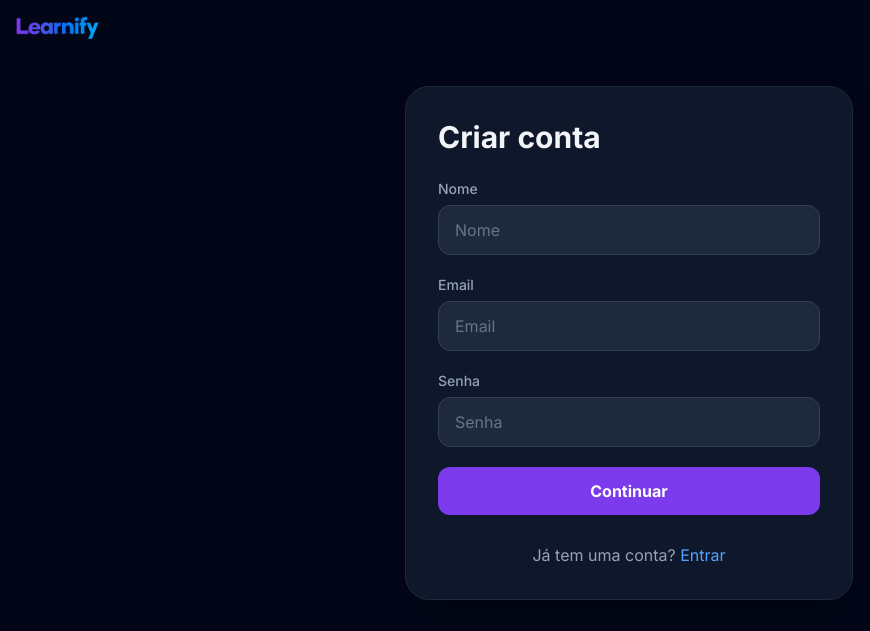
Test case: SignupPage › shows error message when signup fails
The width and height of the screenshot is (870, 631).
Step 1. Type "Antonio" into the field with placeholder "Nome" → (629, 230), box [438, 205, 820, 255]
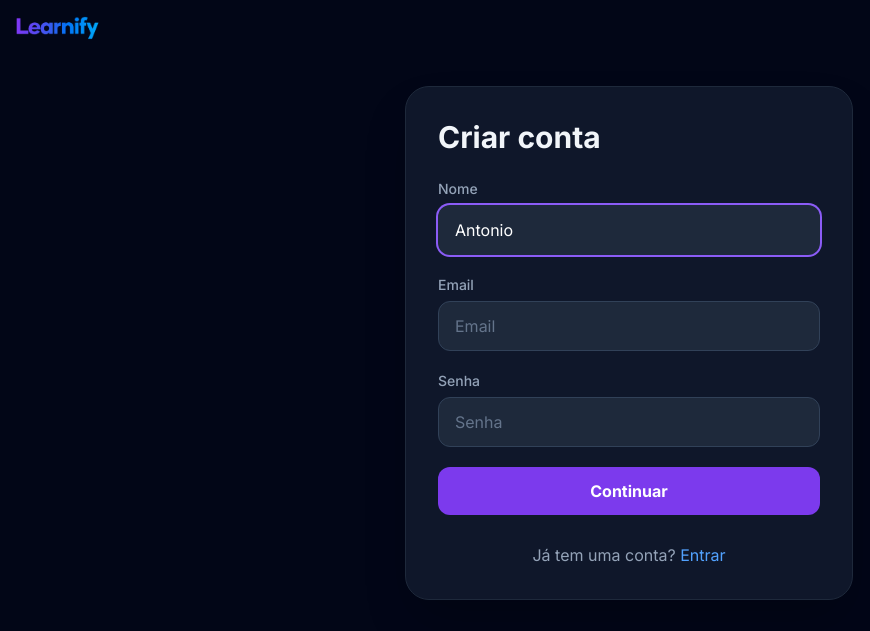
Step 2. Type "antonio@learnify.dev" into the field with placeholder "Email" → (629, 326), box [438, 301, 820, 351]
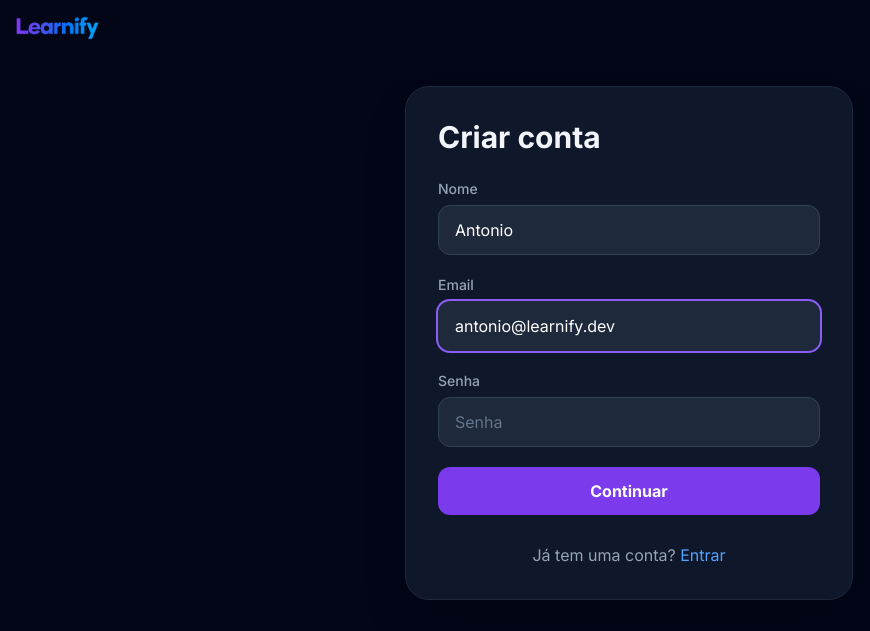
Step 3. Type "123456" into the password field with placeholder "Senha" → (629, 422), box [438, 397, 820, 447]
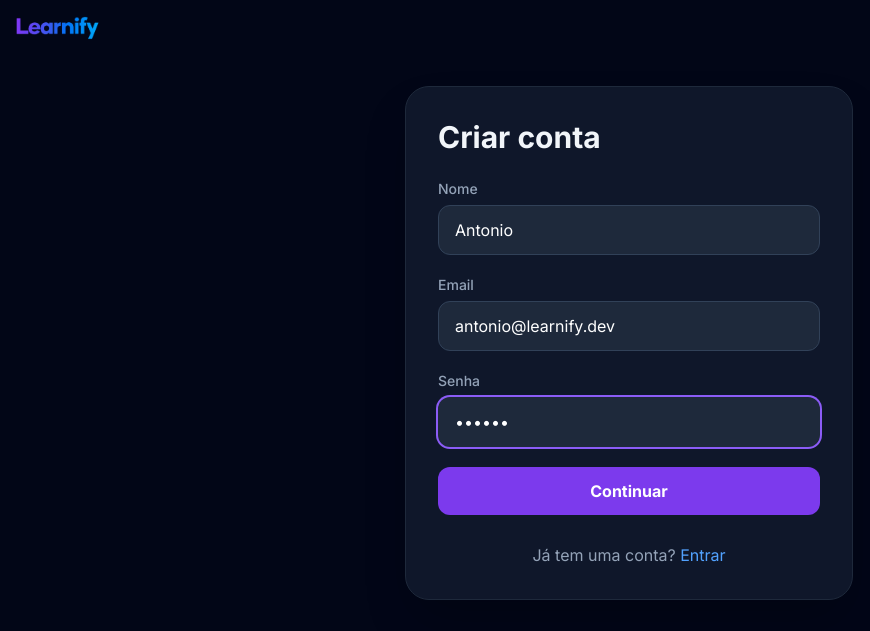
Step 4. Click the button "Continuar" → (629, 491), box [438, 467, 820, 515]
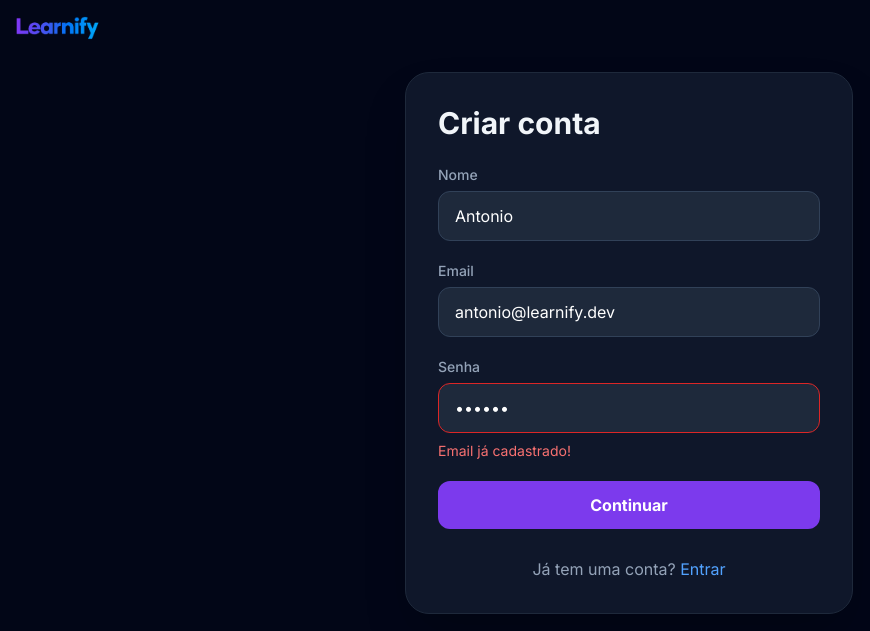
Expected: the text "Email já cadastrado!" is shown, [438, 442, 571, 459]
